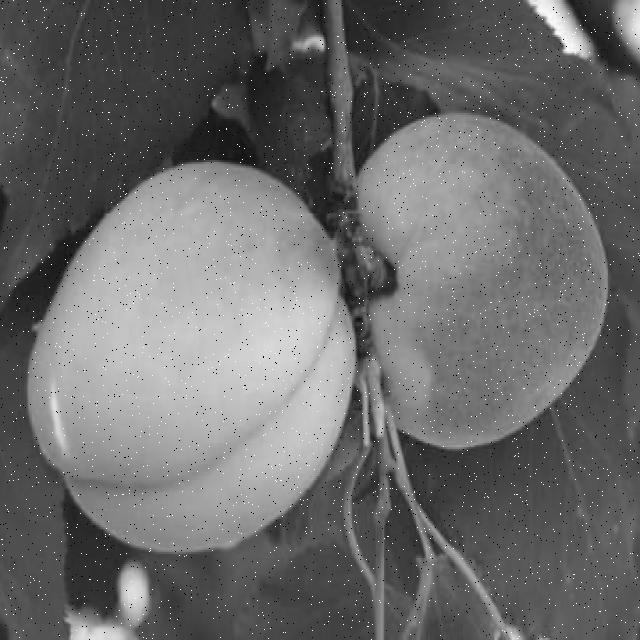Kayisi: (28, 161, 355, 551), (358, 116, 606, 450)
